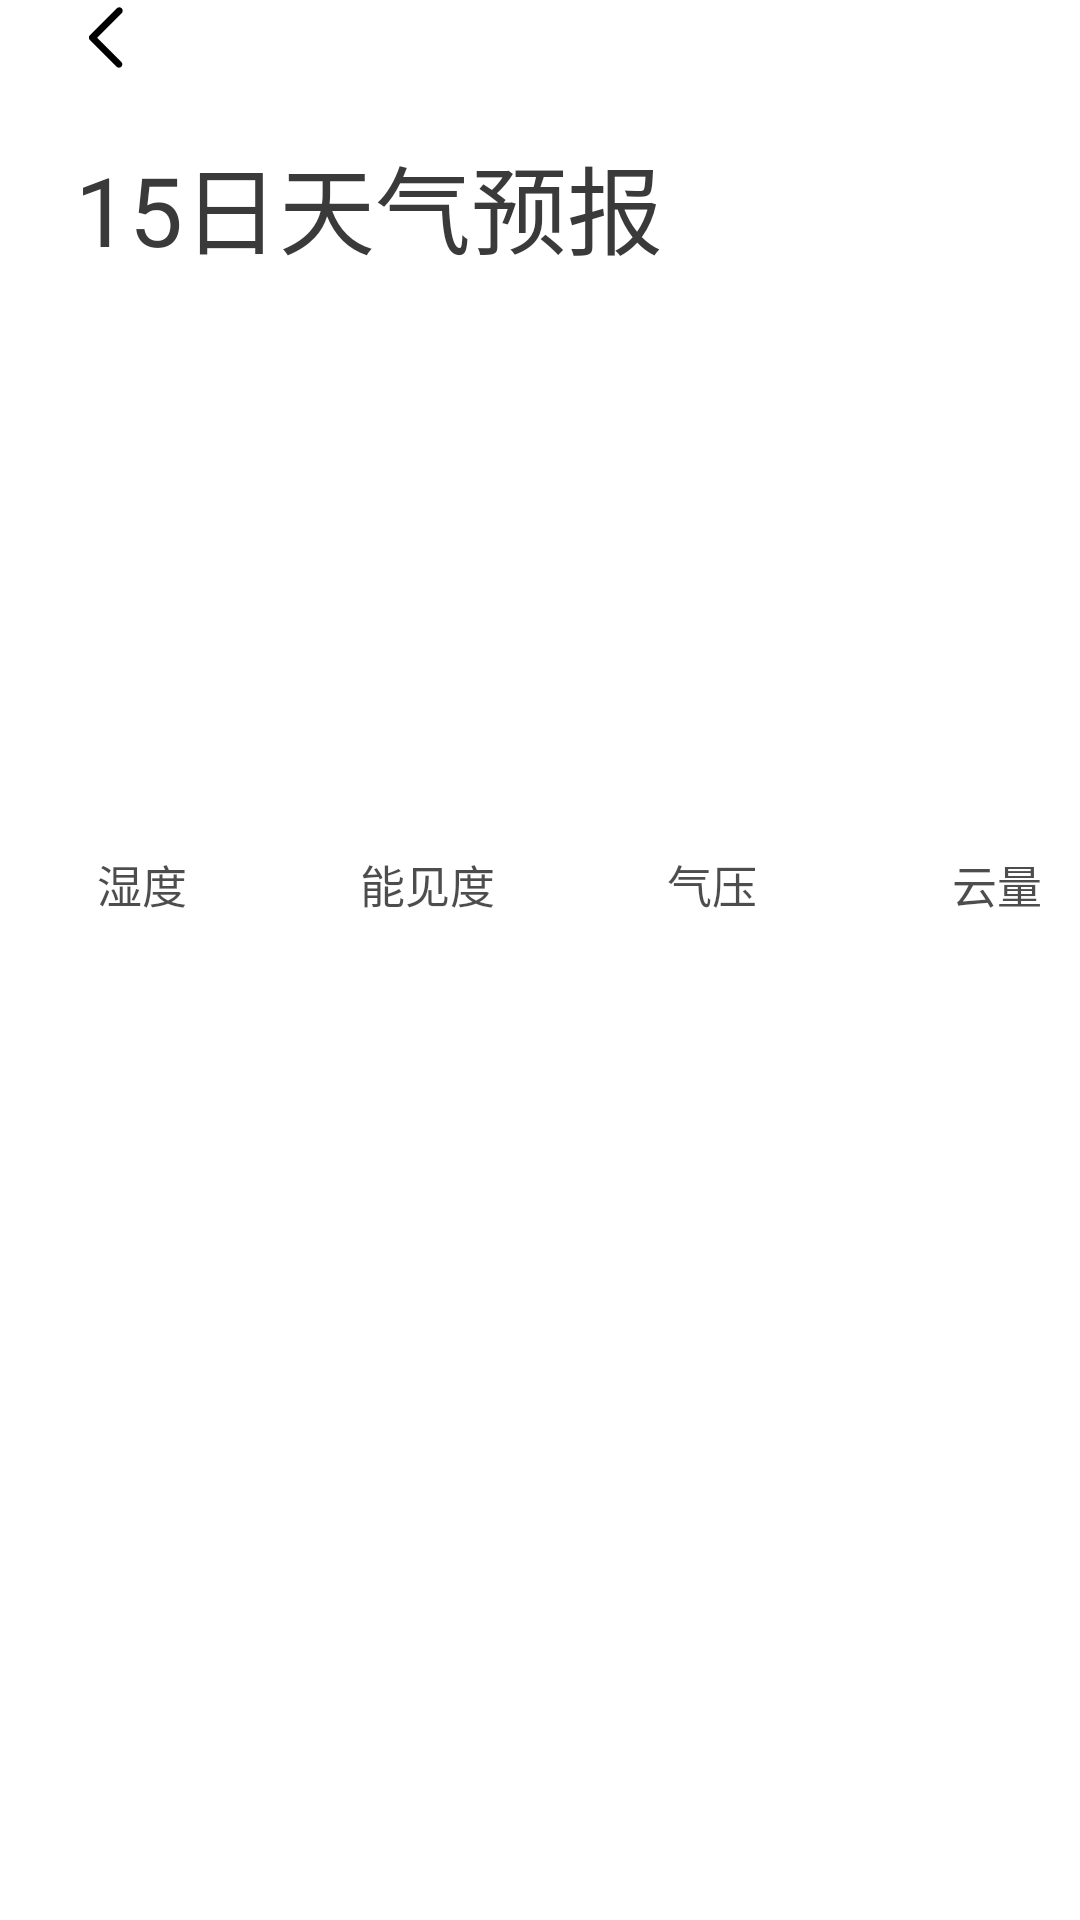

Screen size 1080 × 1920. Icon name, then its center in pixels as [x,y]:
iconlocationback: [106,37]
